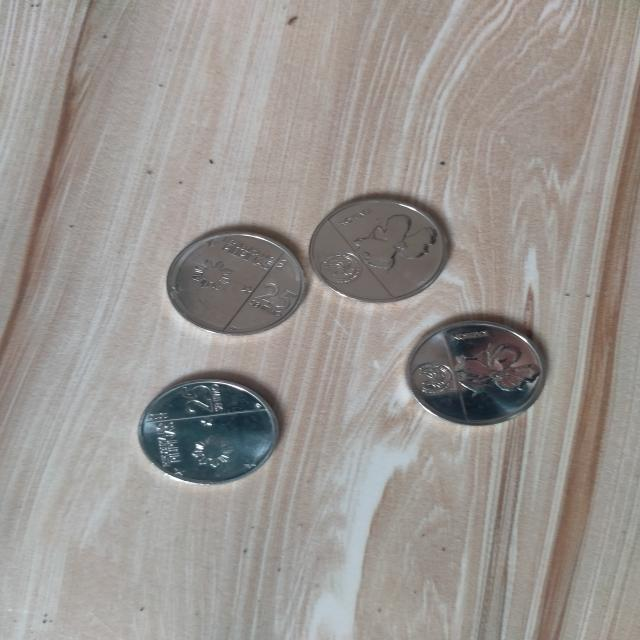25Cent_New_Back: (397, 339, 550, 407)
25Cent_New_Front: (183, 237, 299, 320)
